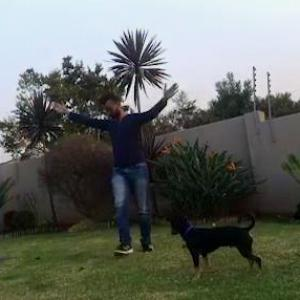takeoff: (30, 65, 166, 244)
